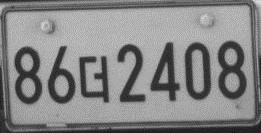0: (183, 42, 212, 100)
2: (116, 42, 146, 103)
4: (149, 41, 180, 101)
6: (46, 44, 77, 104)
8: (12, 45, 43, 105), (216, 39, 247, 99)
더: (77, 55, 111, 104)
